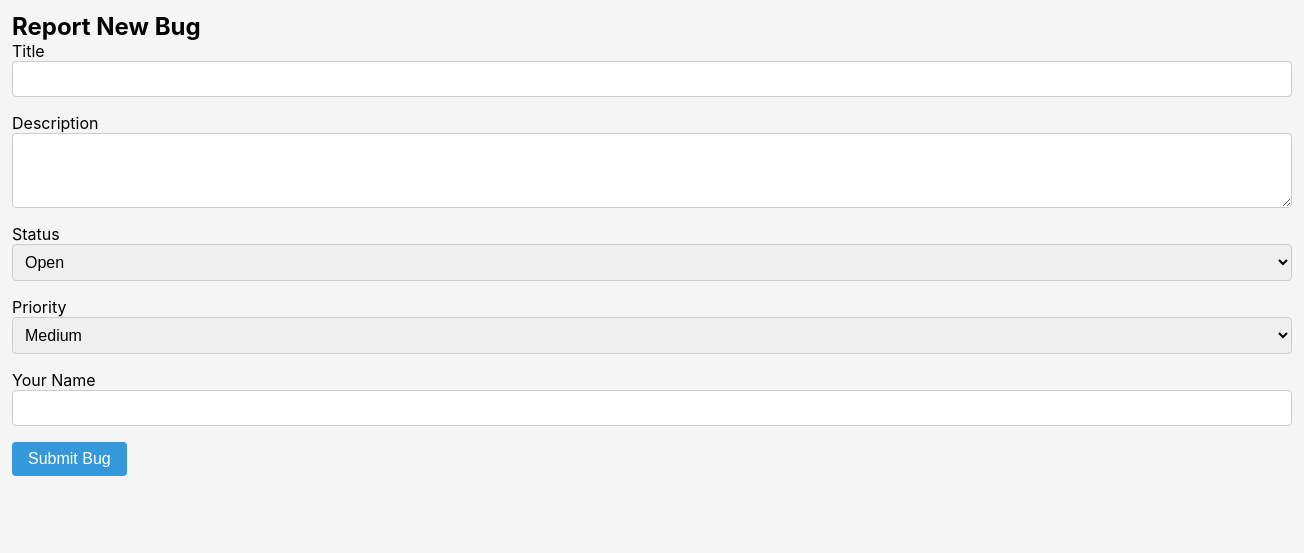
Test: BugForm Component › validates form fields on submission
Note: Submit form without filling required fields
Click the button with test id "submit-button" at (69, 459), box [12,442,127,476]
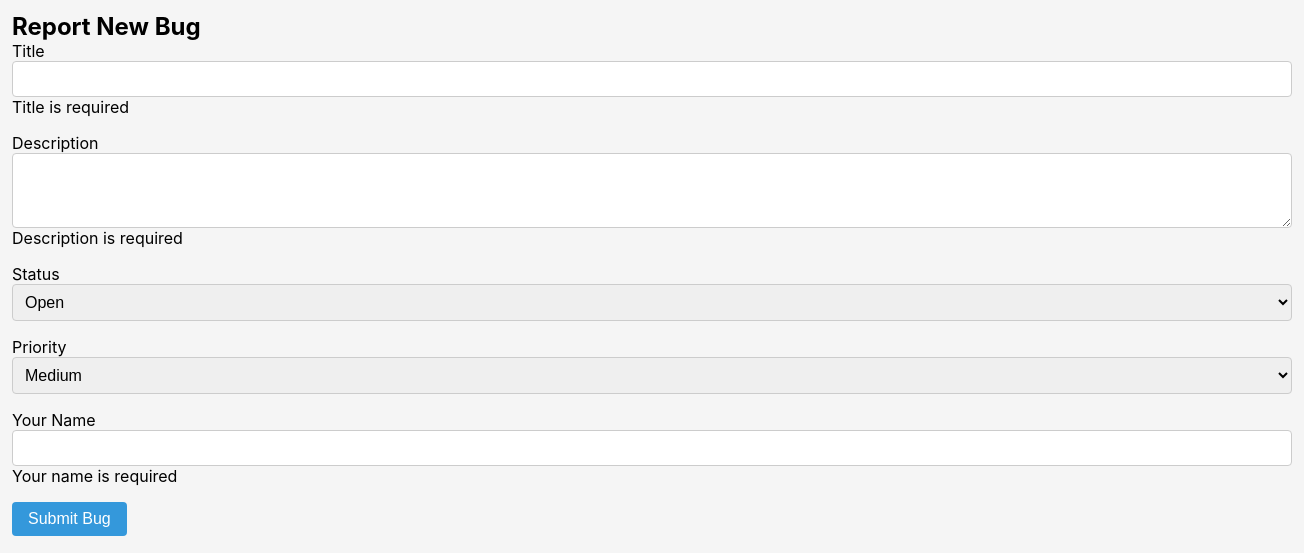
Expected: the text "Title is required" is shown, [12,97,129,117]
Expected: the text "Description is required" is shown, [12,228,183,248]
Expected: the text "Your name is required" is shown, [12,466,177,486]
